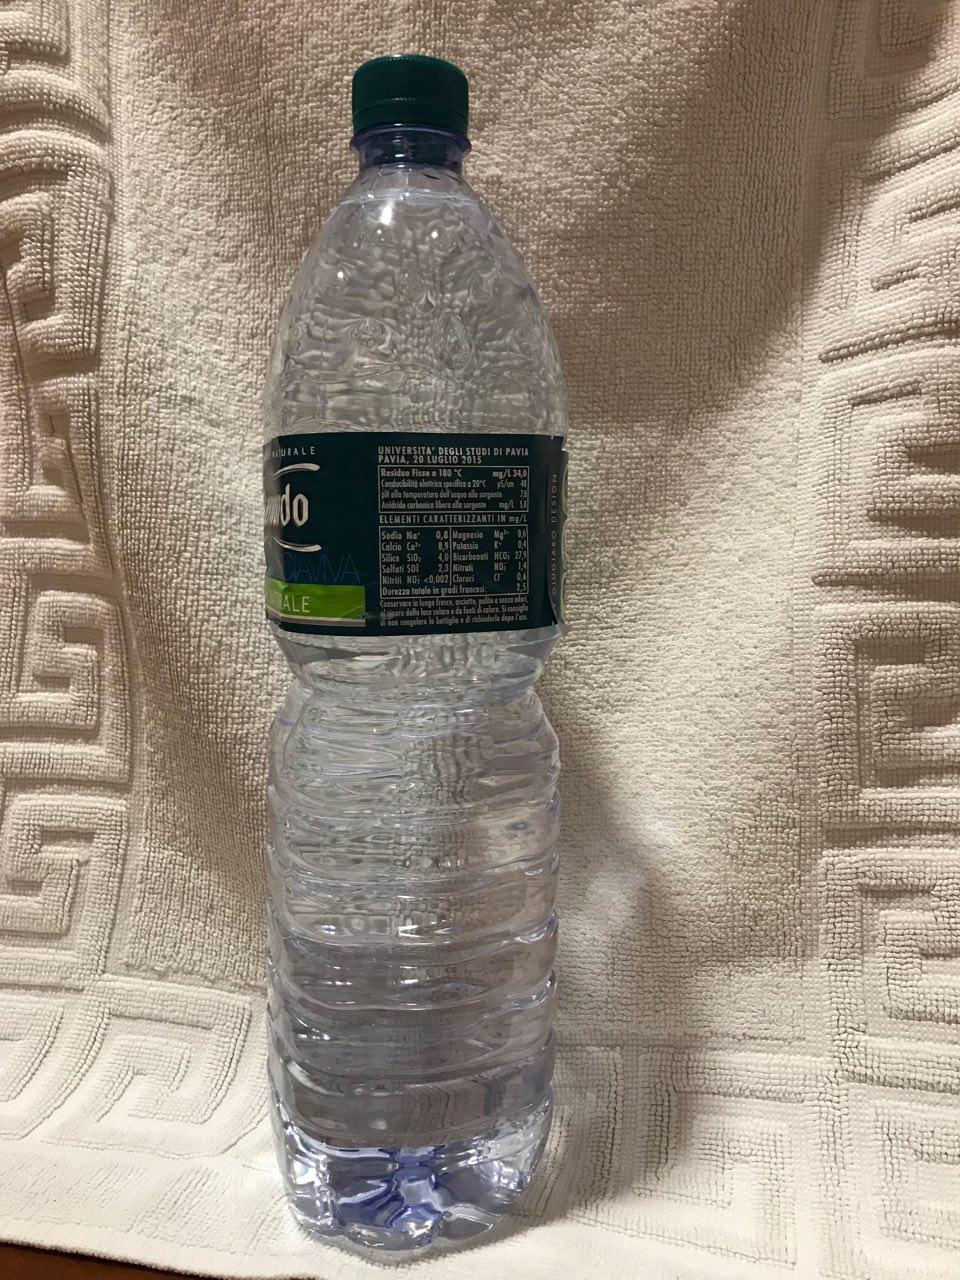san_bernardo: (258, 50, 569, 1252)
